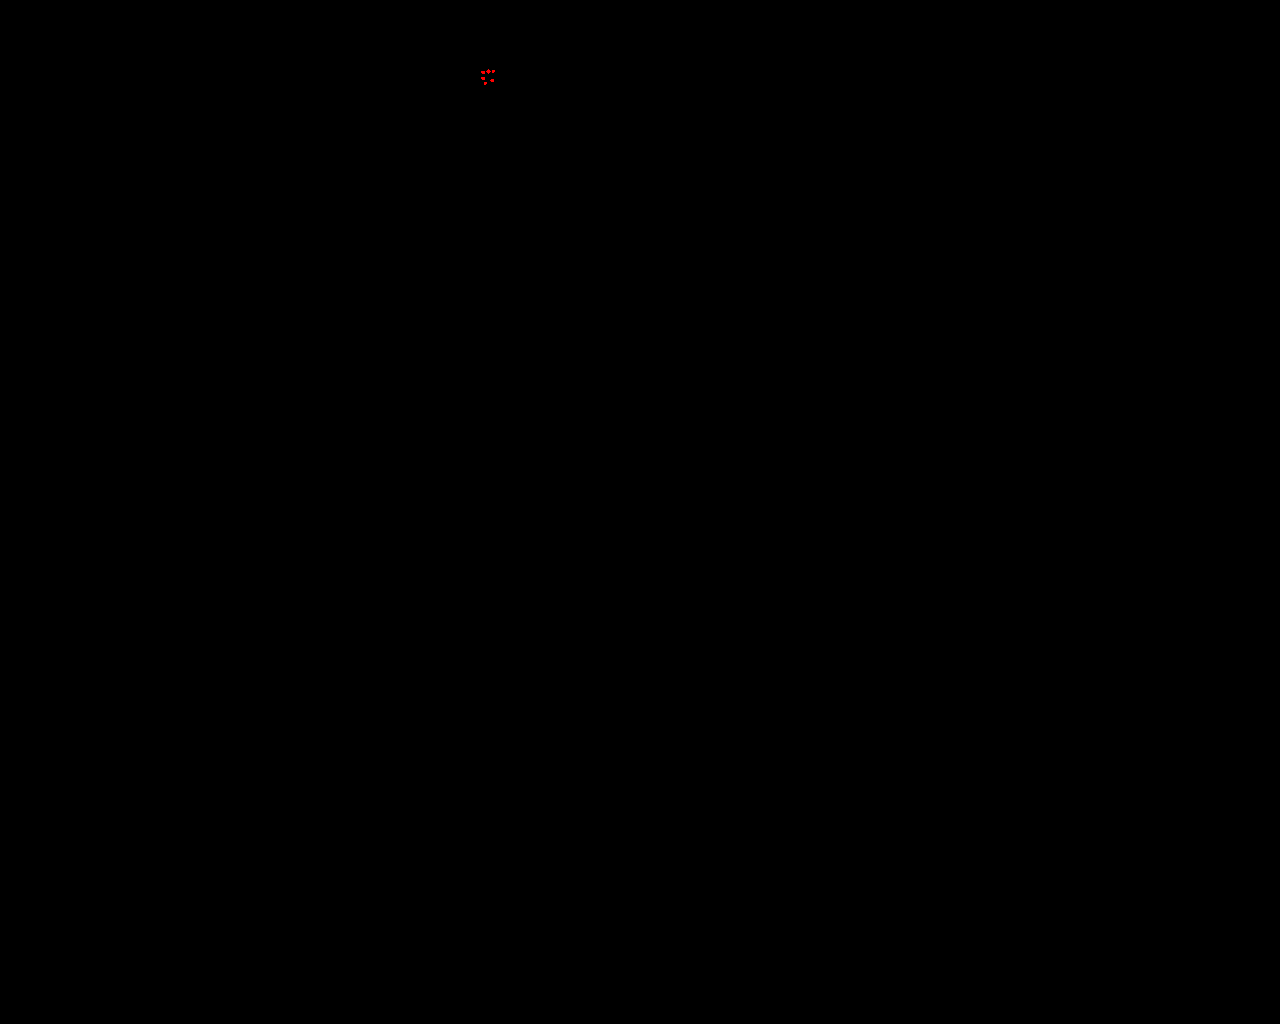Target: (486, 69, 491, 74), (481, 71, 485, 74), (481, 77, 485, 80), (492, 70, 495, 73), (484, 82, 487, 85), (490, 79, 494, 82)
